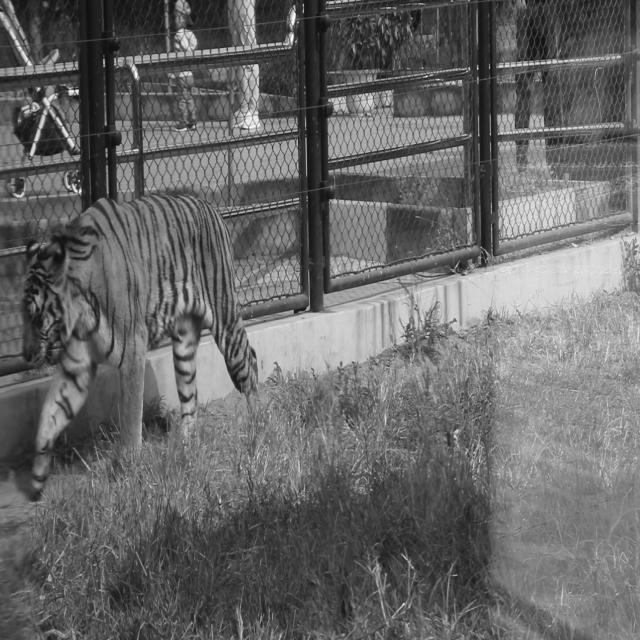Tiger: (20, 189, 261, 500)
